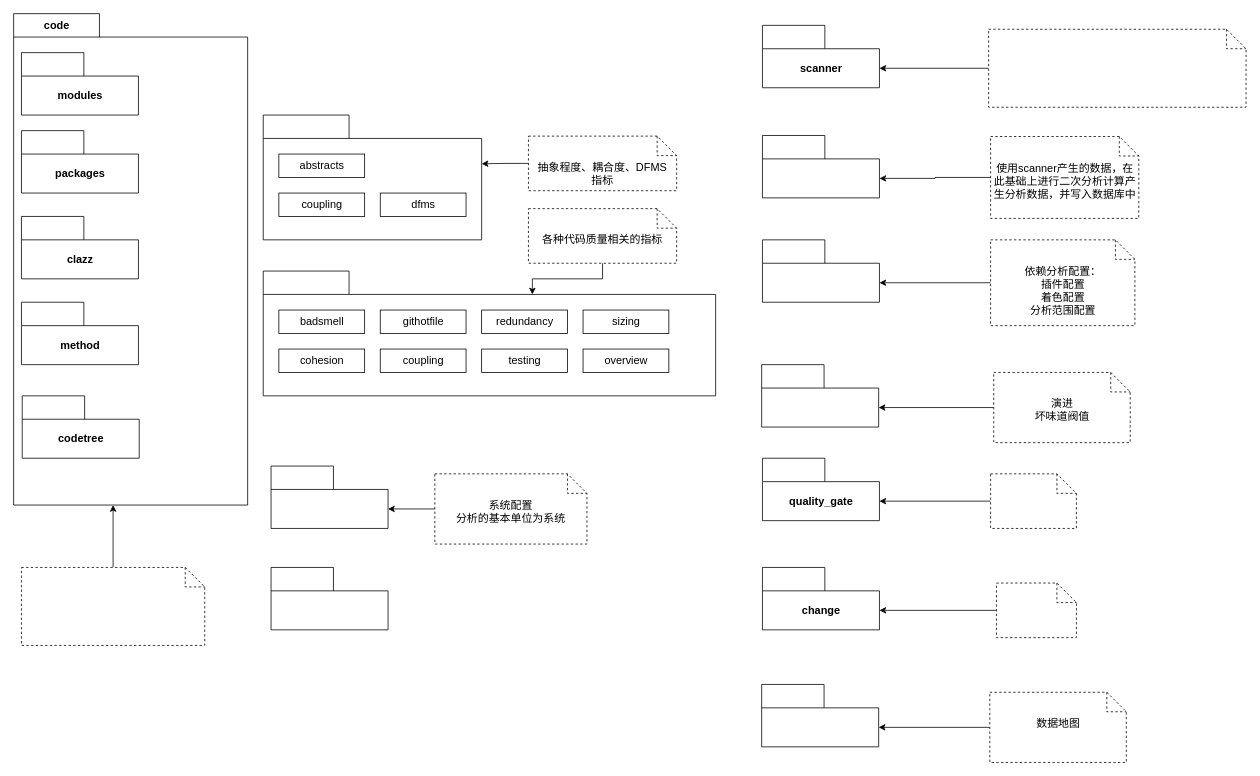
Image size: 1260x776. Some labels were removed from this diagram. Here are the shapes that lost their labels. From the top down, the box of each, then its label:
(988, 28, 1246, 107): 调用https://github.com/archguard/scanner/ 提供的扫描工具的jar包，将分析后的数据写入到数据库中，供后续分析使用
(262, 114, 482, 240): metrics.domain
(762, 135, 879, 198): scanner2
(762, 239, 879, 302): config
(262, 270, 716, 396): report.domain
(761, 364, 879, 427): evaluation
(270, 465, 388, 528): system_info
(990, 473, 1076, 528): 质量门禁
(21, 567, 205, 645): module->package->class->method/field四层代码模型， 数据来源于scan_javasource工具
(270, 567, 388, 630): common
(996, 582, 1076, 638): 变更影响
(761, 684, 879, 747): datamap
